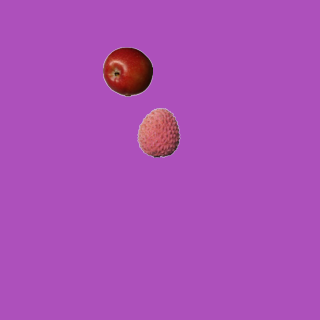Apple Braeburn: (102, 46, 152, 96)
Lychee: (133, 107, 183, 157)
